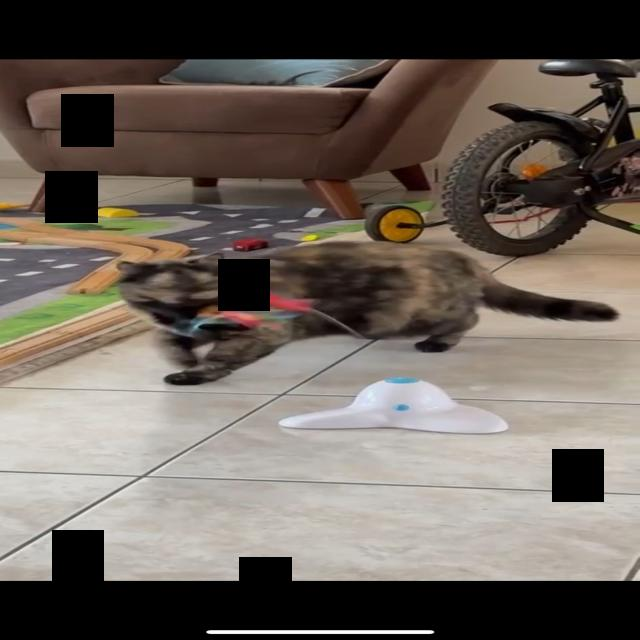authorized: (115, 240, 620, 386)
